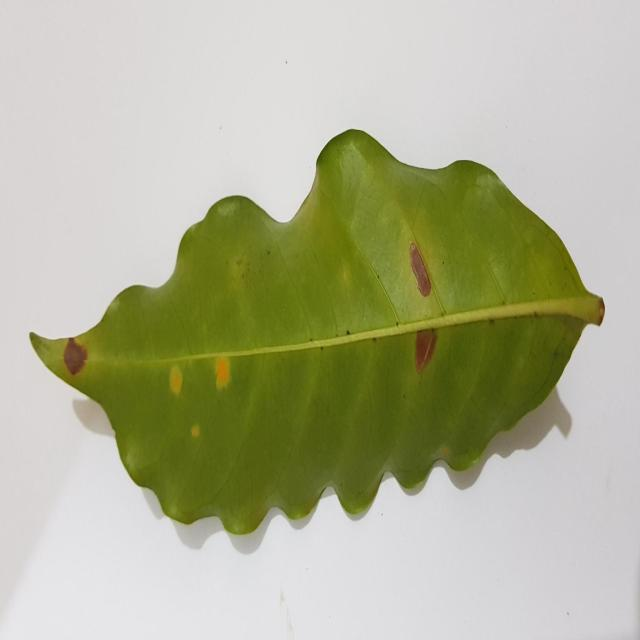miner: (409, 239, 433, 298), (415, 329, 438, 372), (63, 338, 88, 376)
rust: (210, 356, 232, 389), (169, 364, 183, 396), (190, 421, 200, 438)
